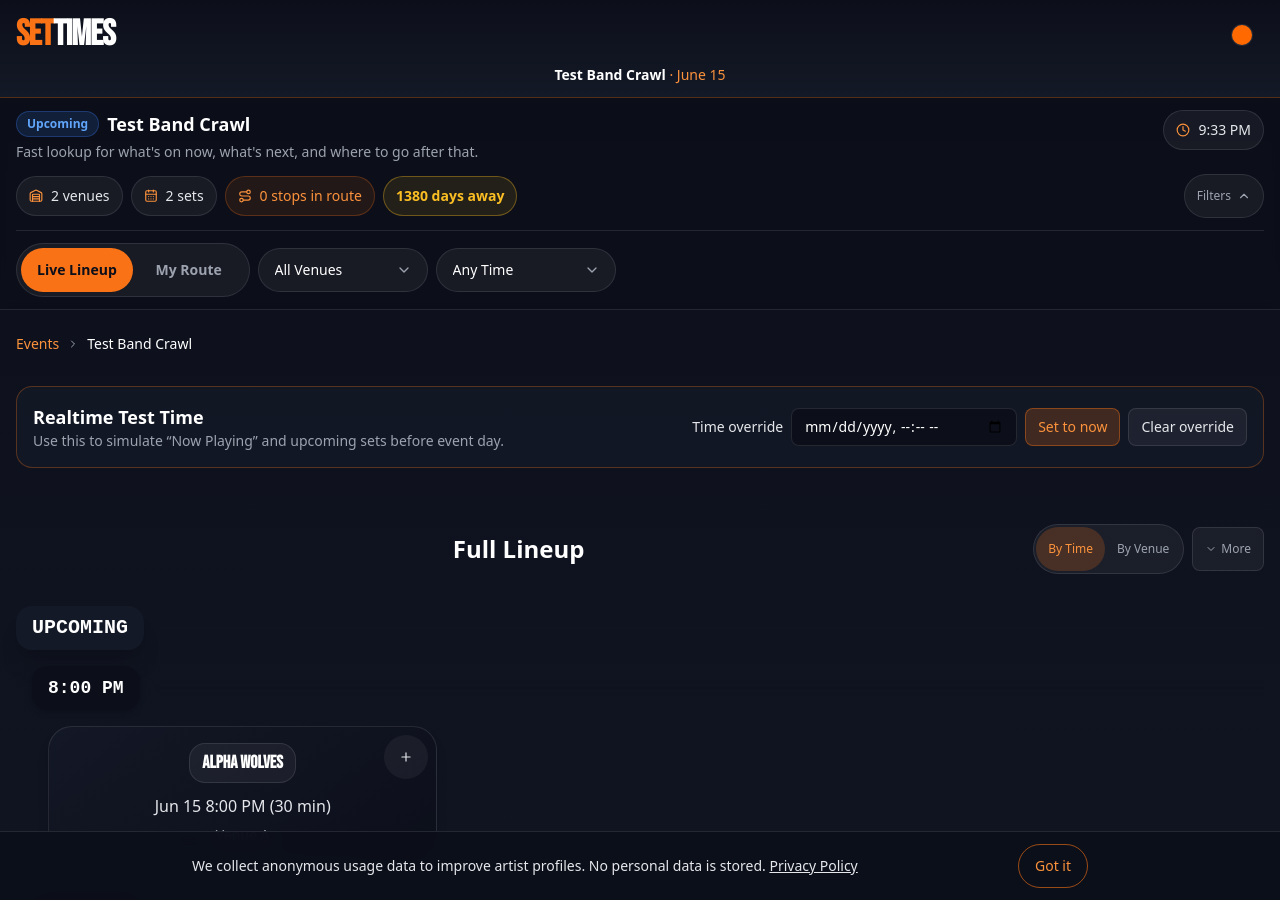
Test: view toggle (All vs Mine) › defaults to Live Lineup with no stored selection, and the tabs actually switch views
Click the button "My Route" at (189, 270), box [133,248,245,292]
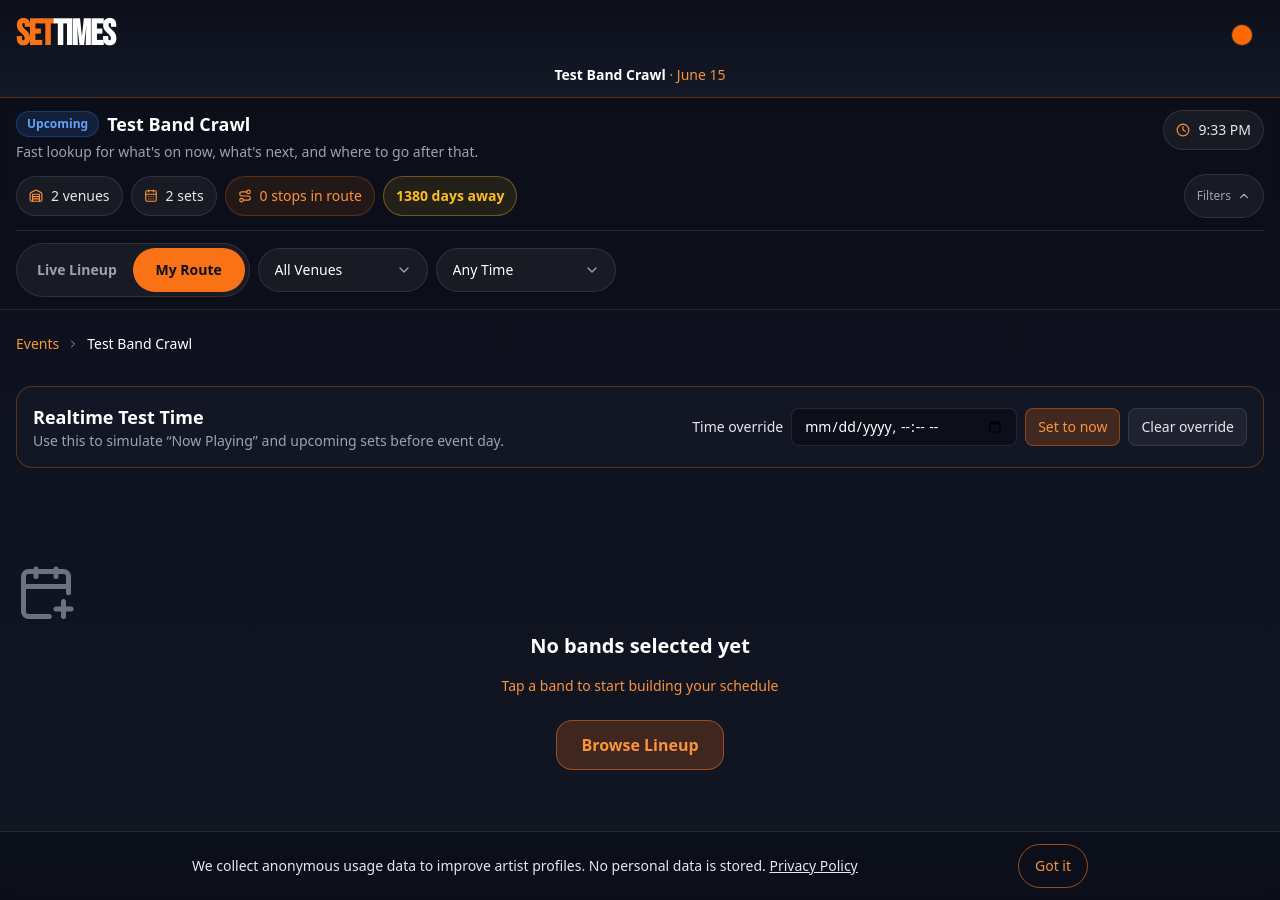
Expected: the text "No bands selected yet" is shown, [530,632,750,659]
Click the button "Live Lineup" at (77, 270), box [21,248,133,292]
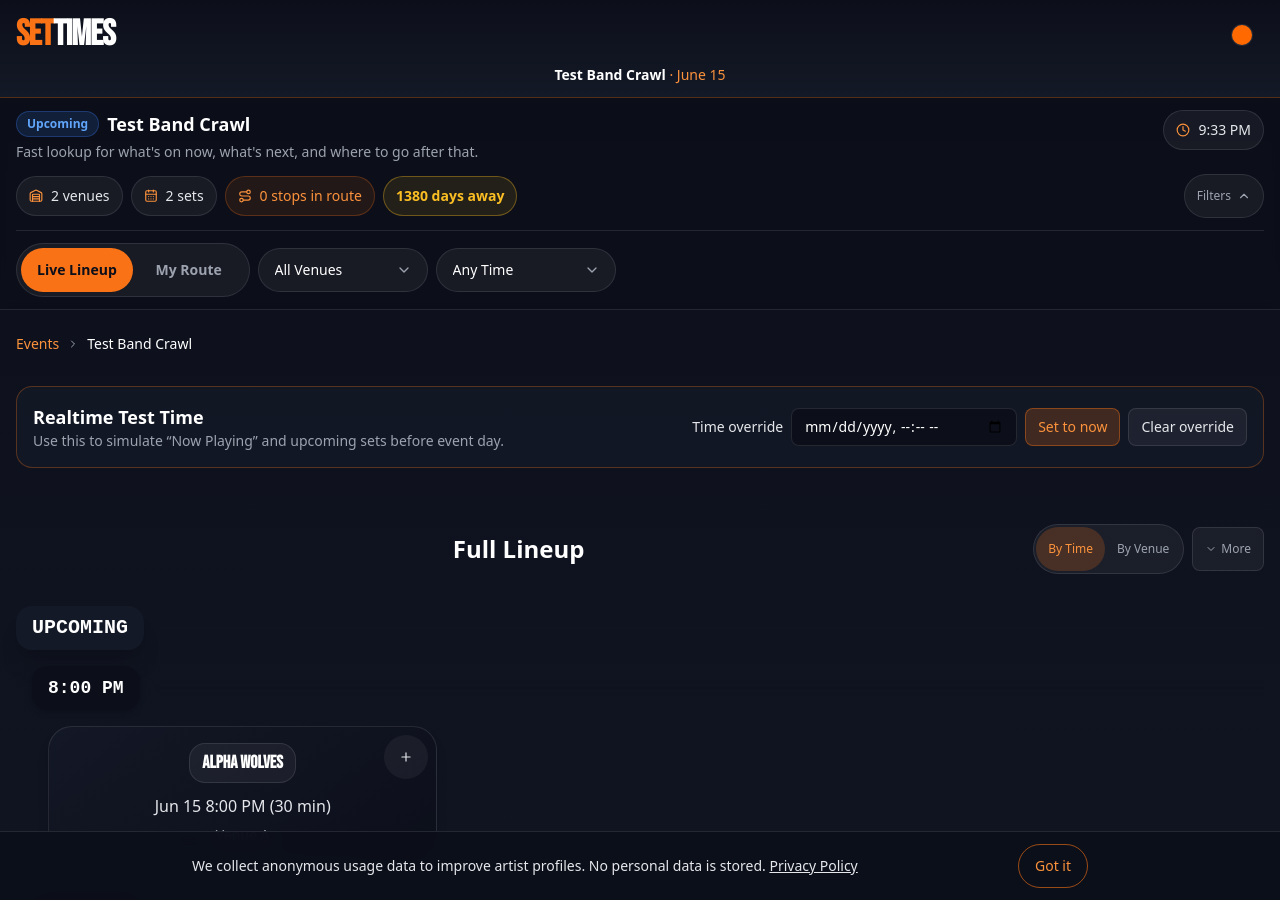
Expected: the button named "Add Alpha Wolves to my route" is shown, [384,735,428,779]
